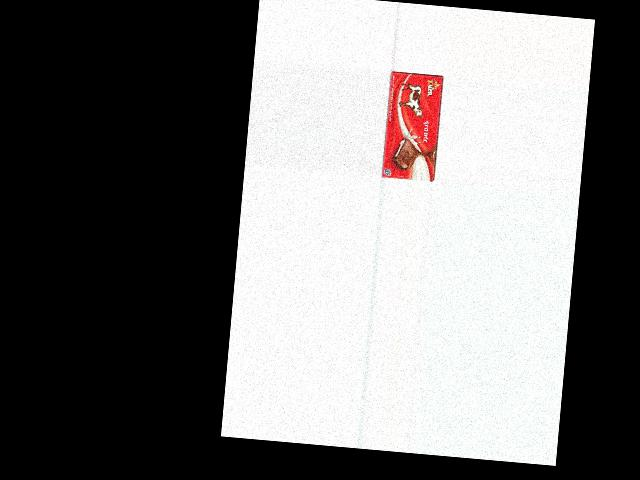chocolate: (380, 69, 443, 181)
